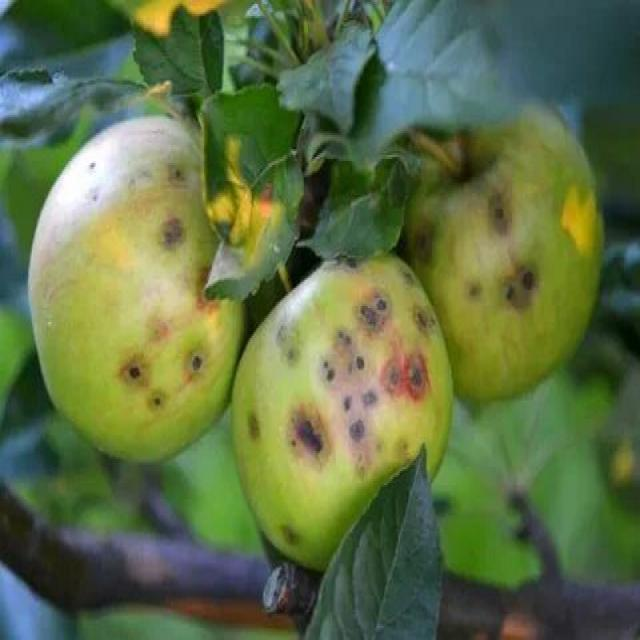Rotten: (47, 121, 250, 442), (238, 247, 448, 535), (420, 90, 608, 397)
